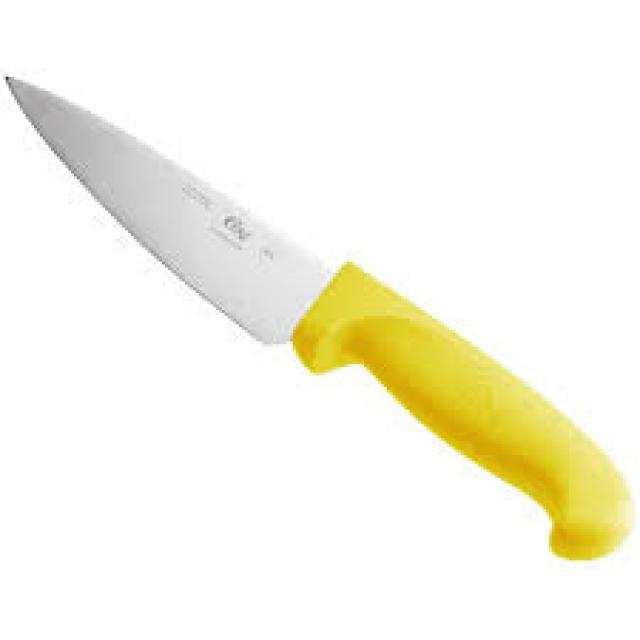Knife: (0, 71, 631, 560)
